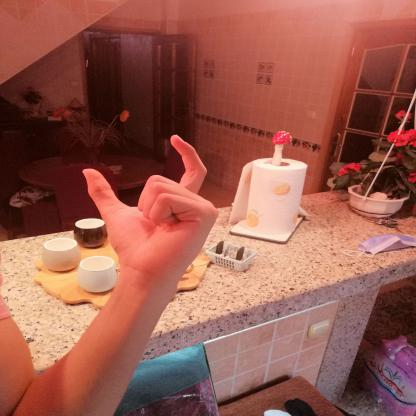NOON: (62, 122, 228, 286)
